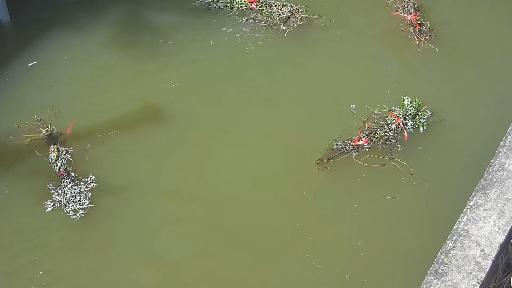twig: (312, 90, 453, 182), (16, 101, 103, 222), (173, 0, 326, 39), (374, 0, 454, 59)
